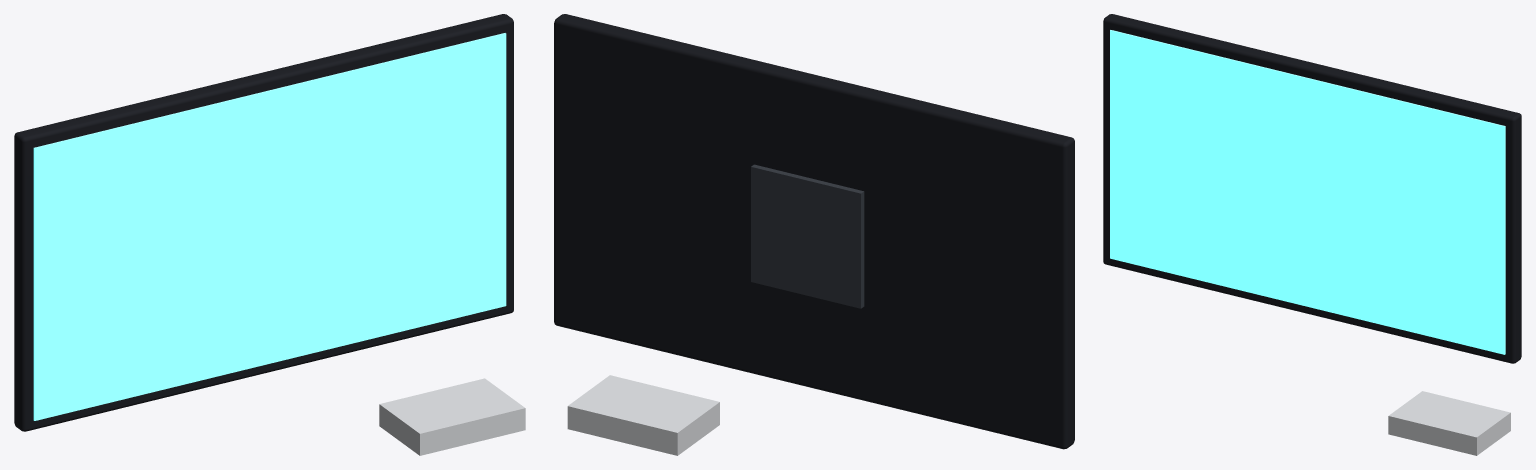
Rendered from WallTv.fbx.
3 renders of one model, left to right at view 1: azimuth 30°, elevation 25°; view 2: azimuth 150°, elevation 25°; view 3: azimuth 330°, elevation 25°, orthographic. The views are drawn at different scales.
Parts seen in each view (by area): view 1: TvScreen, WallTvBody; view 2: WallTvBody; view 3: TvScreen, WallTvBody.
Part boxes in pixels (x1,y1,x2,y2): TvScreen: (33,33,506,420); WallTvBody: (14,14,525,455); WallTvBody: (554,14,1074,455); TvScreen: (1110,30,1505,354); WallTvBody: (1103,14,1521,455).
Size of the model in its own units: 1.4 by 1.05 by 0.2.
